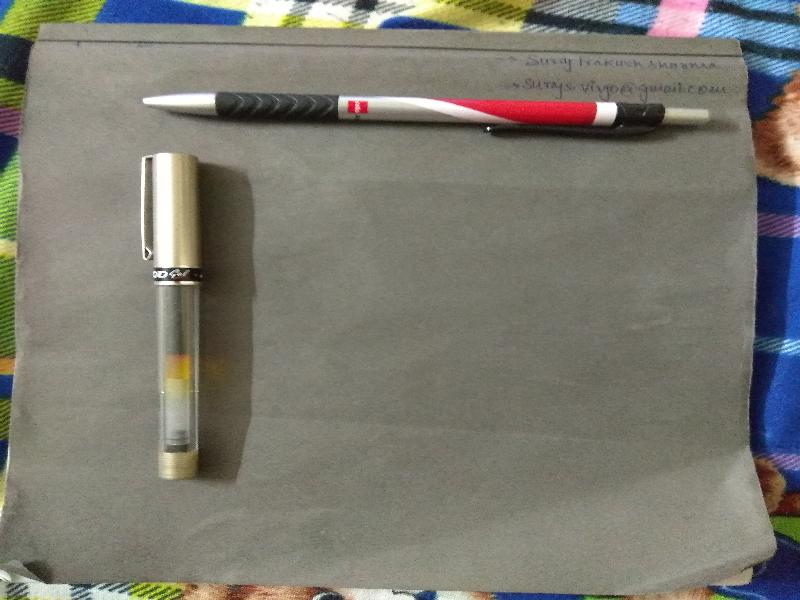pen: (135, 84, 717, 146), (134, 148, 218, 488)
